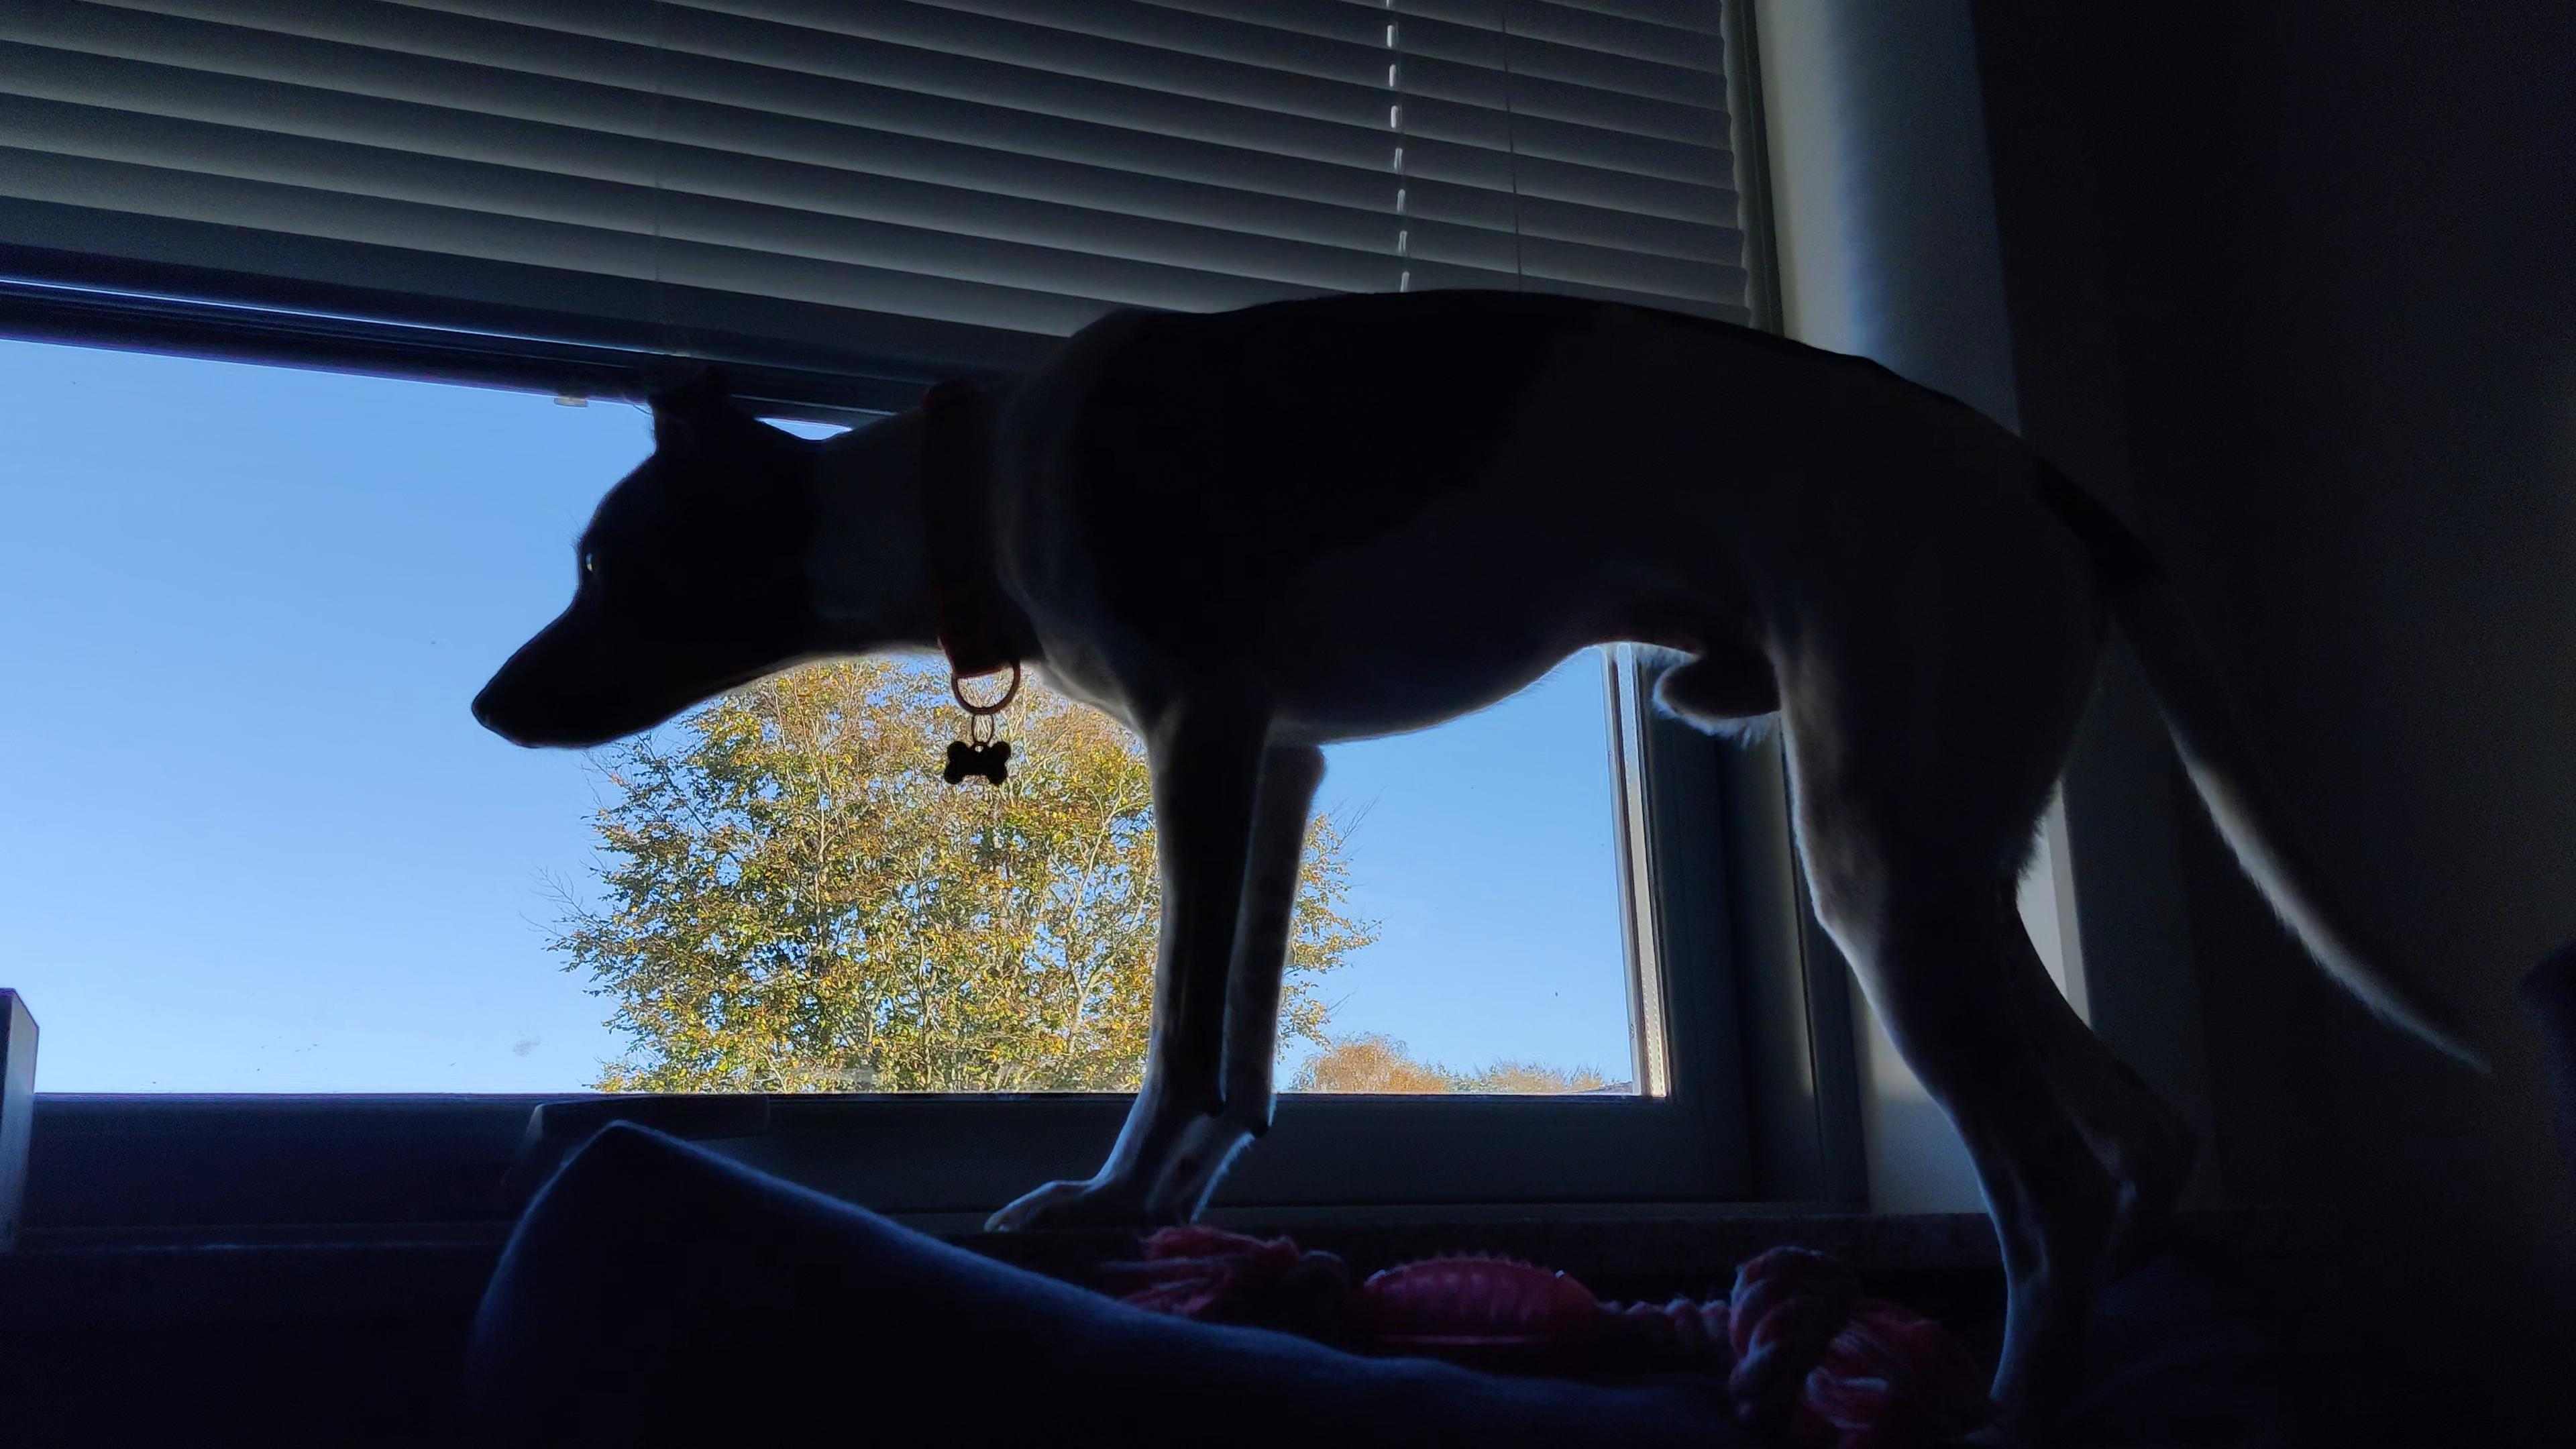Dog: (460, 251, 2509, 1405)
